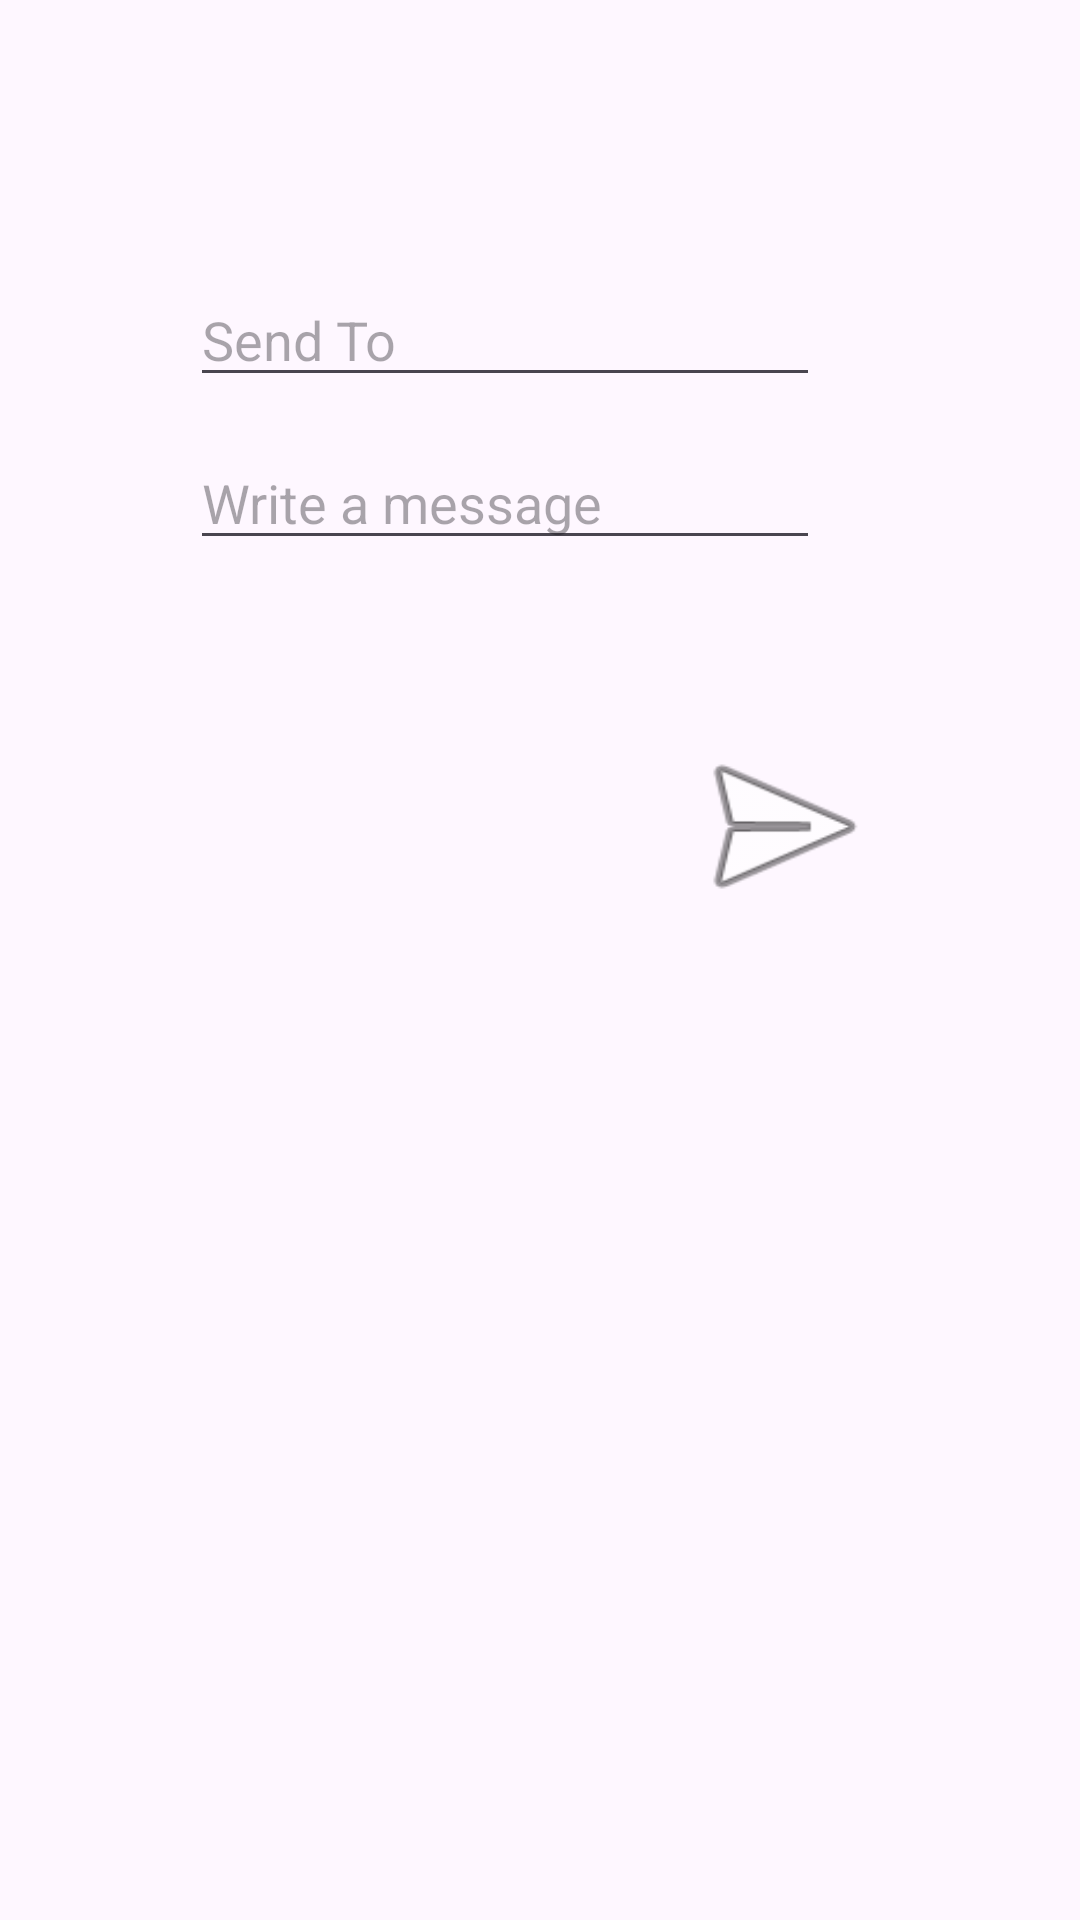

Icons on this 1080 x 1920 Android screen, each with its box as BBox(x1, y1, x2, y2):
send: BBox(714, 765, 856, 888)
